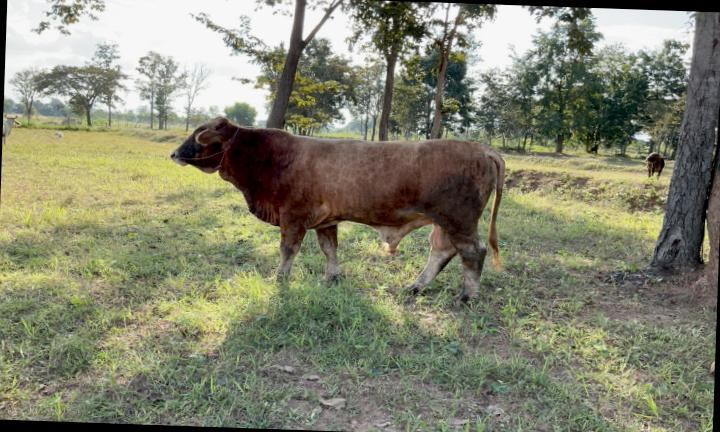Charolais: (171, 117, 505, 298)
